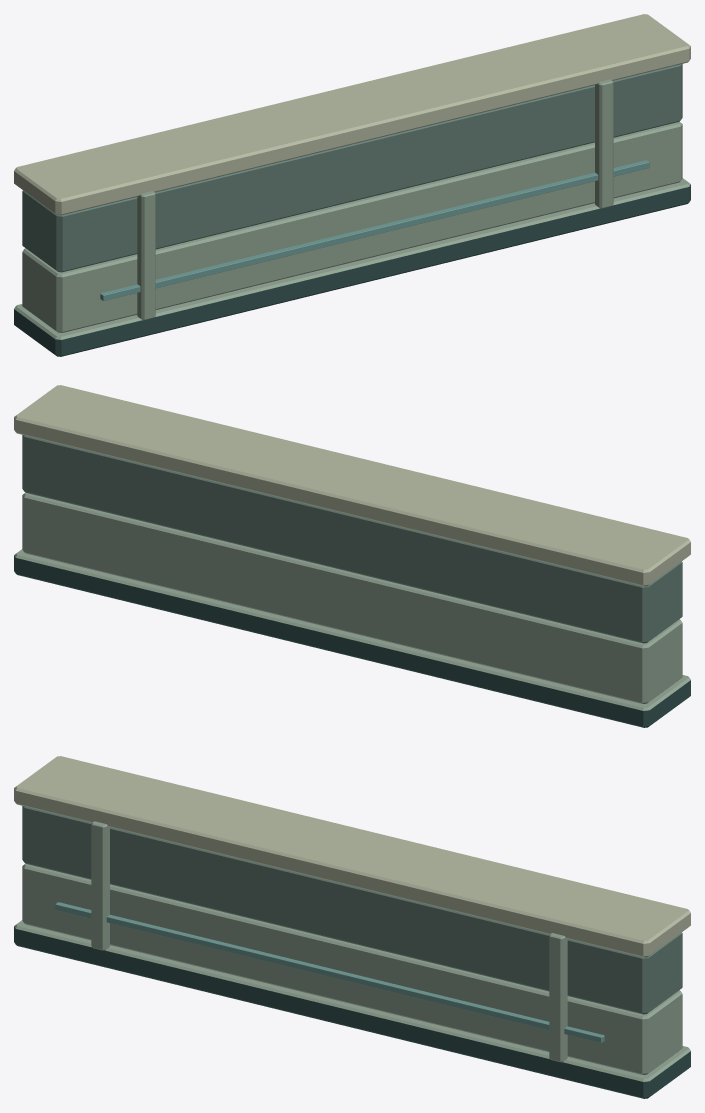
The model's file is wall-long.glb.
The picture shows the model from 3 angles, top to bottom: view 1: azimuth 30°, elevation 25°; view 2: azimuth 150°, elevation 25°; view 3: azimuth 330°, elevation 25°; orthographic projection.
Visible parts, largest first — view 1: wall-long__body; view 2: wall-long__body; view 3: wall-long__body.
Boxes of the visible parts, x1=… form: wall-long__body: x1=14, y1=14, x2=690, y2=356; wall-long__body: x1=14, y1=385, x2=690, y2=727; wall-long__body: x1=14, y1=756, x2=690, y2=1098.
Size of the model in its own units: 4 by 0.95 by 0.535.
